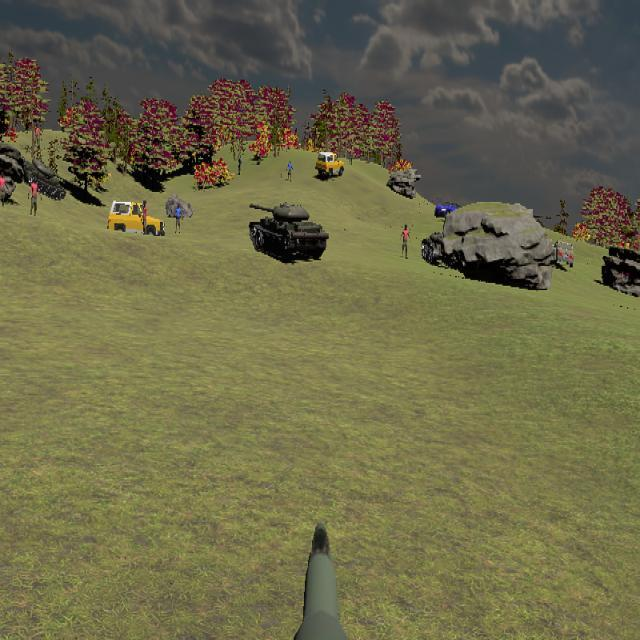Human: (400, 223, 411, 260)
Tank: (248, 200, 330, 261), (22, 159, 80, 200), (0, 139, 29, 184)
car: (107, 200, 165, 240), (315, 151, 344, 179)
